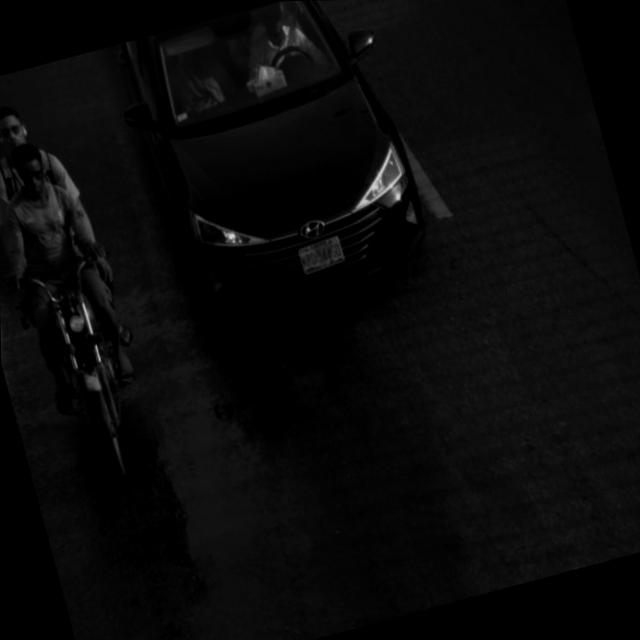person_with_seatbelt: (236, 0, 318, 103)
